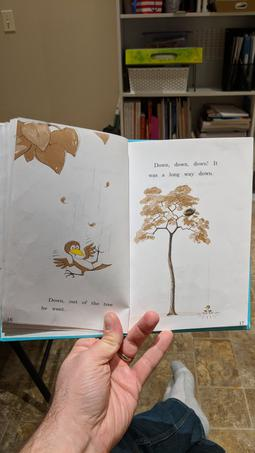text block: (38, 286, 120, 315), (140, 158, 225, 179)
